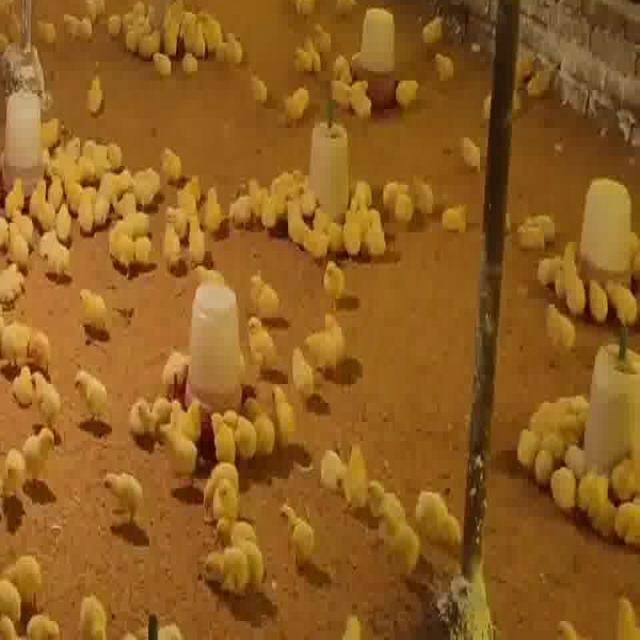poussin: (415, 487, 464, 551), (322, 442, 369, 503), (383, 511, 426, 574), (103, 464, 148, 522), (280, 501, 319, 566), (245, 392, 279, 458), (73, 363, 108, 425), (579, 469, 614, 528), (204, 547, 250, 591), (25, 422, 61, 478), (532, 392, 588, 428), (4, 546, 49, 590), (222, 406, 258, 460), (30, 369, 64, 424), (168, 427, 208, 473), (228, 540, 266, 588), (196, 462, 245, 499), (374, 478, 414, 523), (80, 584, 111, 640), (245, 314, 278, 365), (306, 325, 346, 367), (555, 301, 587, 352), (243, 270, 279, 315), (0, 439, 28, 495), (608, 276, 638, 327), (552, 238, 578, 296), (215, 515, 262, 547), (316, 206, 346, 253), (288, 345, 320, 389), (272, 384, 298, 438), (562, 258, 587, 313), (552, 461, 580, 510), (169, 394, 203, 434), (115, 192, 146, 235), (615, 494, 640, 547), (78, 285, 110, 326), (331, 312, 357, 362), (208, 408, 233, 460), (533, 435, 555, 494), (25, 605, 62, 640), (0, 570, 23, 625), (62, 5, 96, 41), (42, 232, 74, 270), (0, 260, 25, 308), (4, 318, 34, 358), (178, 175, 204, 218), (282, 84, 315, 117), (14, 361, 37, 407), (341, 210, 365, 254), (588, 274, 610, 322), (195, 261, 228, 293), (204, 180, 226, 228), (214, 478, 238, 522), (183, 5, 205, 52), (417, 168, 438, 217), (8, 224, 31, 268), (29, 325, 52, 369), (513, 422, 538, 462), (217, 30, 247, 63), (323, 258, 347, 299), (458, 126, 483, 165), (138, 160, 160, 204), (159, 8, 182, 50), (126, 12, 150, 52), (159, 147, 183, 187), (107, 234, 132, 272), (351, 73, 371, 120), (366, 204, 385, 253), (442, 198, 472, 229), (186, 215, 206, 261), (526, 207, 556, 237), (148, 394, 173, 430), (164, 201, 195, 230), (434, 46, 456, 85), (166, 218, 183, 268), (286, 192, 306, 234), (56, 202, 77, 242), (100, 164, 132, 189), (96, 139, 120, 172), (130, 395, 153, 428), (294, 41, 322, 68), (303, 223, 330, 251), (82, 134, 103, 170), (28, 178, 54, 207), (34, 11, 59, 41), (81, 182, 96, 232), (6, 176, 28, 210), (13, 206, 37, 237), (535, 250, 558, 282), (399, 72, 418, 110), (202, 7, 220, 47), (312, 18, 336, 48), (516, 221, 547, 244), (329, 72, 351, 104), (138, 27, 164, 54), (274, 168, 300, 195), (88, 71, 108, 106), (395, 191, 419, 220), (382, 173, 410, 197), (228, 189, 252, 217), (421, 13, 446, 39), (251, 70, 271, 100), (94, 186, 110, 223), (250, 176, 266, 212), (65, 163, 79, 204), (135, 232, 152, 264), (49, 172, 67, 200), (106, 9, 125, 35), (154, 49, 172, 76), (264, 190, 274, 230), (183, 47, 198, 72)
